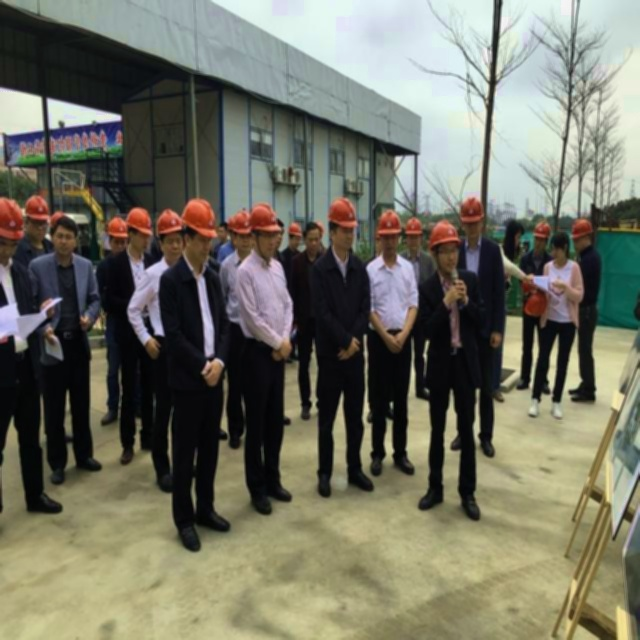Con_Casco: (328, 198, 357, 250), (377, 211, 400, 258), (461, 197, 484, 237)
Sin_Casco_Mascarrilla: (53, 216, 78, 257), (550, 232, 570, 262)
